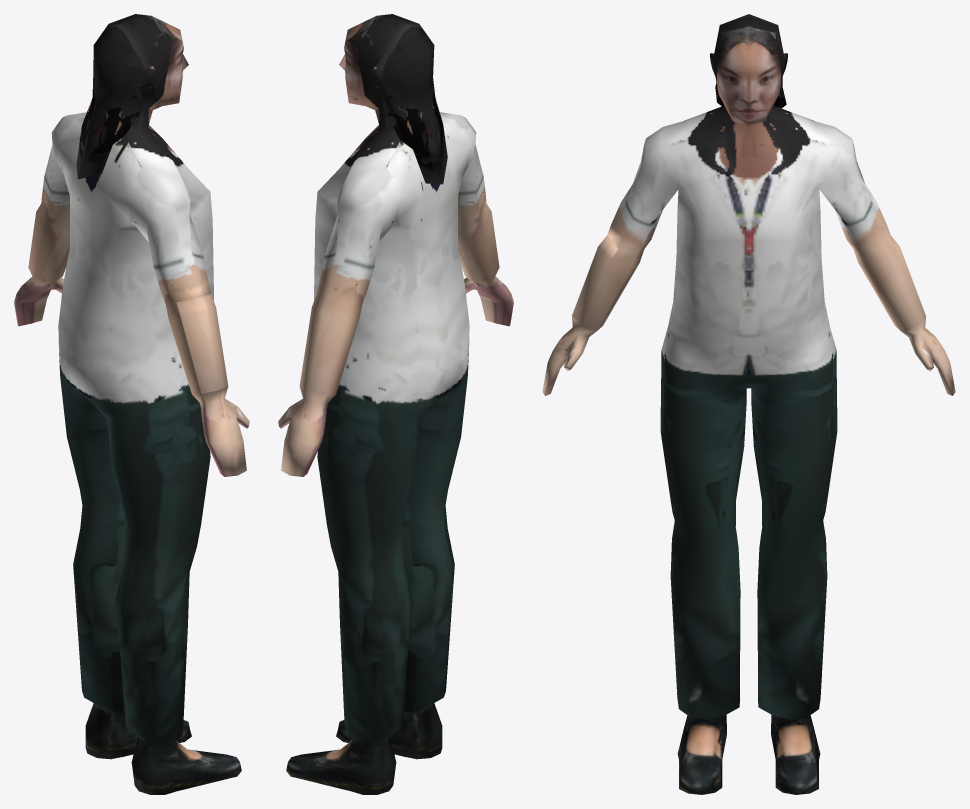
The model's file is jessa.fbx.
3 views of the same model, side by side, from view 1: azimuth 30°, elevation 25°; view 2: azimuth 150°, elevation 25°; view 3: azimuth 270°, elevation 25° (orthographic).
Visible parts, largest first — view 1: jessa; view 2: jessa; view 3: jessa.
Part boxes in pixels (x1=…): jessa: x1=14, y1=14, x2=249, y2=794; jessa: x1=278, y1=14, x2=513, y2=794; jessa: x1=542, y1=14, x2=955, y2=794.
Bounding box in the file's own units: 82.16 × 427 × 216.
